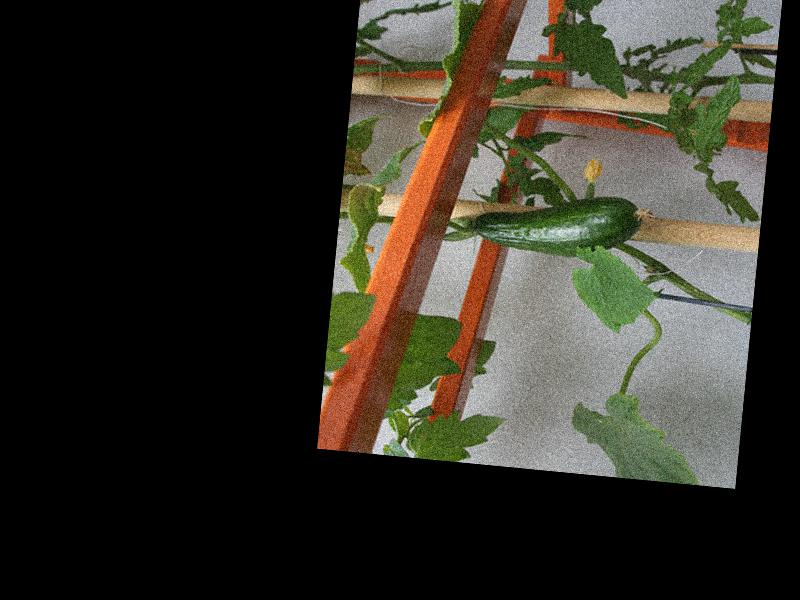Cucumber: (472, 184, 655, 263)
